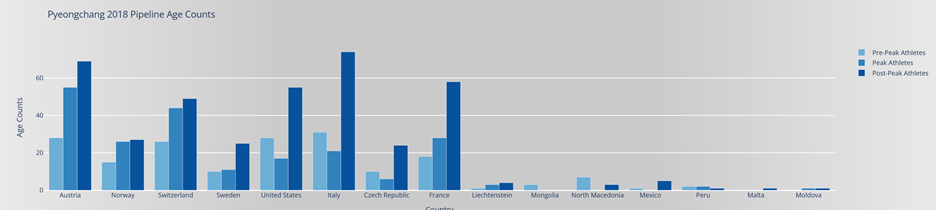

What the dashboard file says about the page in this screenshot:
{"tool":"tableau","page":{"name":"Dashboard 1","canvas":[1000,1000],"units":"permille","ordinal":0},"visuals":[{"type":"worksheet","title":"Sheet 1","mark":"Automatic","box":[2.1,4.2,888.5,991.5]},{"type":"filter","title":"Sheet 1","param":"[federated.146amrn0jlxjl911misc91clc58j].[none:Medal:ok]","box":[890.6,4.2,107.3,47.2]},{"type":"filter","title":"Sheet 1","param":"[federated.146amrn0jlxjl911misc91clc58j].[none:USOC Master Competition Set Name:","box":[890.6,51.4,107.3,150.1]},{"type":"legend","title":"Sheet 1","param":"[federated.146amrn0jlxjl911misc91clc58j].[cnt:Medal:qk]","box":[890.6,201.5,107.3,43]},{"type":"filter","title":"Sheet 1","param":"[federated.146amrn0jlxjl911misc91clc58j].[none:Event Gender:nk]","box":[890.6,244.4,107.3,64.2]},{"type":"filter","title":"Sheet 1","param":"[federated.146amrn0jlxjl911misc91clc58j].[none:Event Name Short:nk]","box":[890.6,308.6,107.3,121.4]}]}

Visuals, with their boxes on the dashboard's canvas, which has no fixed pixel size, in thousandths of its width and height (x1, y1, x2, y2). These are canvas units, not pixel positions in the 936x210 screenshot, which may show the page scaled, cropped or inside an application window:
"Sheet 1" worksheet: {"left": 2, "top": 4, "right": 891, "bottom": 996}
"Sheet 1" filter: {"left": 891, "top": 4, "right": 998, "bottom": 51}
"Sheet 1" filter: {"left": 891, "top": 51, "right": 998, "bottom": 202}
"Sheet 1" legend: {"left": 891, "top": 202, "right": 998, "bottom": 244}
"Sheet 1" filter: {"left": 891, "top": 244, "right": 998, "bottom": 309}
"Sheet 1" filter: {"left": 891, "top": 309, "right": 998, "bottom": 430}
